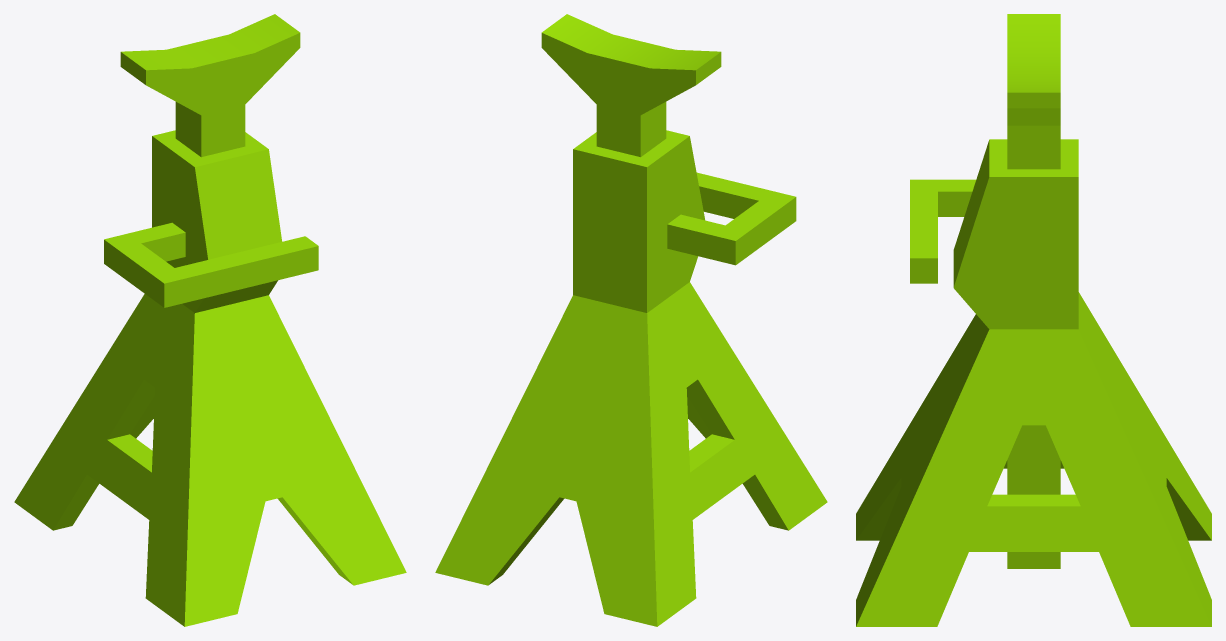
File: Asset_Garage2_3.fbx
The picture shows the model from 3 angles, left to right: view 1: azimuth 30°, elevation 25°; view 2: azimuth 150°, elevation 25°; view 3: azimuth 270°, elevation 25°; orthographic projection. The views are drawn at different scales.
Parts seen in each view (by area): view 1: Asset_Garage2_3; view 2: Asset_Garage2_3; view 3: Asset_Garage2_3.
Part boxes in pixels (<box>): Asset_Garage2_3: <box>14,14,406,626</box>; Asset_Garage2_3: <box>435,14,827,626</box>; Asset_Garage2_3: <box>856,14,1211,626</box>.
Bounding box in the file's own units: 16.61 × 35.4 × 22.08.
